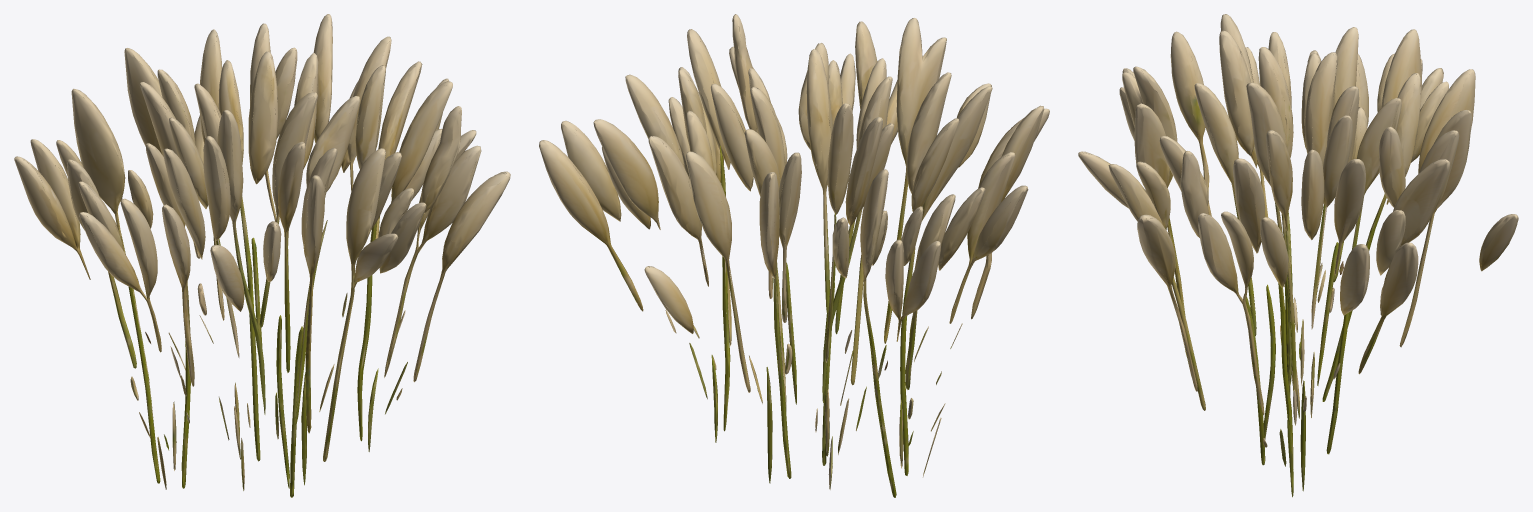
File: Grass.glb
3 views of the same model, side by side, from view 1: azimuth 30°, elevation 25°; view 2: azimuth 150°, elevation 25°; view 3: azimuth 270°, elevation 25° (orthographic). The views are drawn at different scales.
Parts seen in each view (by area): view 1: node_0; view 2: node_0; view 3: node_0.
Boxes of the visible parts, x1,y1,x2,y2 form: node_0: (14,14,510,497); node_0: (539,14,1049,497); node_0: (1078,14,1518,497).
Size of the model in its own units: 0.9543 by 0.9123 by 0.9091.
Materials: 1 (1 with a texture image).
